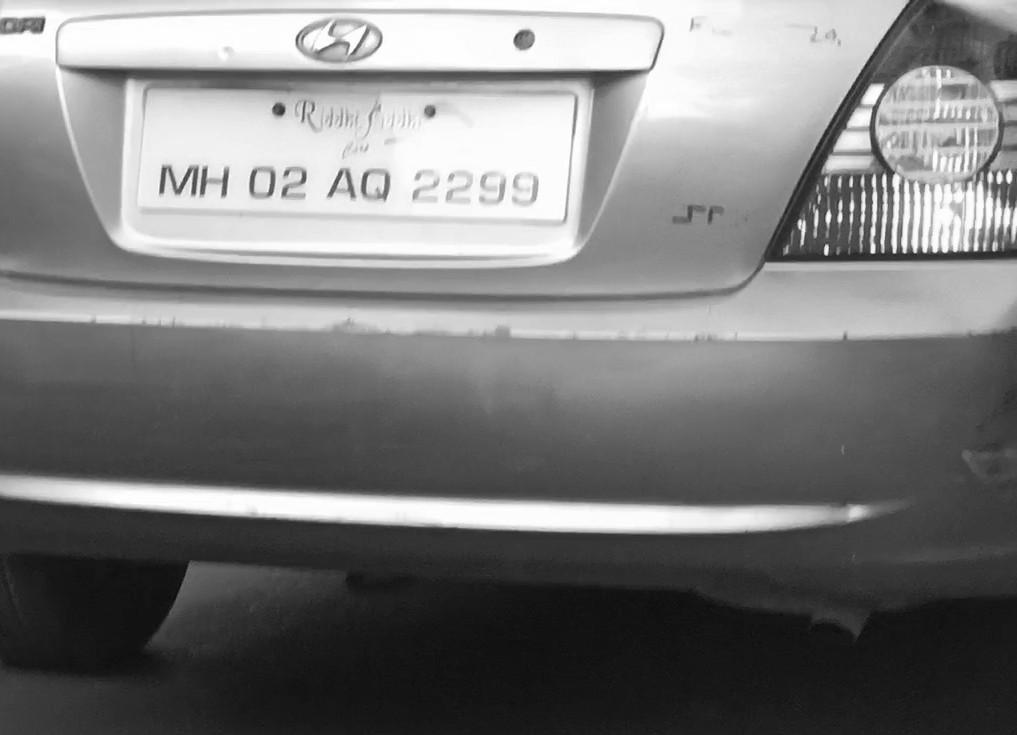number_plate: (137, 91, 574, 216)
